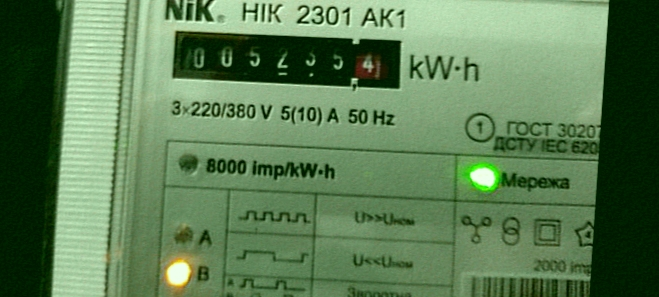0: (189, 45, 205, 71), (217, 45, 233, 70)
2: (272, 44, 289, 71)
3: (299, 43, 318, 69)
4: (356, 47, 376, 77)
5: (327, 44, 345, 73), (245, 44, 260, 69)
screen: (156, 15, 411, 103)
